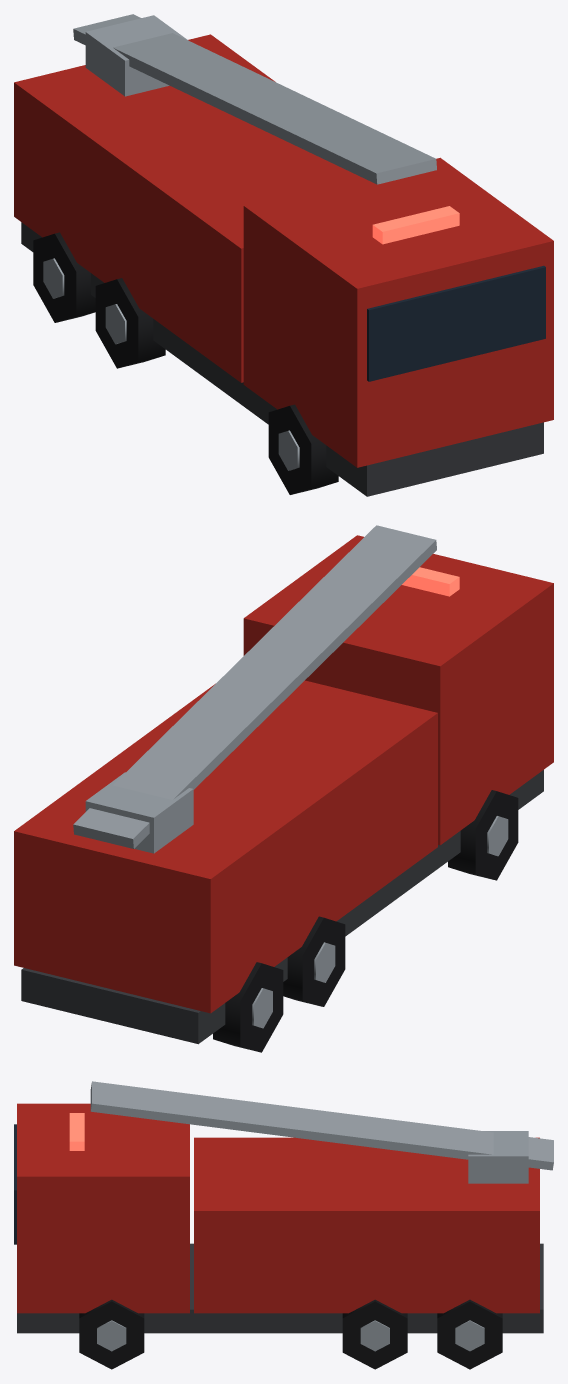
The model's file is veh_ground_fire_truck_a09_lod1.glb.
3 views of the same model, one above another, from view 1: azimuth 30°, elevation 25°; view 2: azimuth 150°, elevation 25°; view 3: azimuth 270°, elevation 25° (orthographic). The views are drawn at different scales.
Parts seen in each view (by area): view 1: body, ladder, wheel_2, wheel_4, wheel_0; view 2: body, ladder, wheel_0, wheel_4, wheel_2; view 3: body, ladder, wheel_1, wheel_3, wheel_5.
Boxes of the visible parts, <box> form: body: <box>14,34,553,496</box>; ladder: <box>73,14,436,184</box>; wheel_2: <box>95,278,165,368</box>; wheel_4: <box>268,404,338,494</box>; wheel_0: <box>33,232,95,322</box>; body: <box>14,535,553,1044</box>; ladder: <box>73,525,436,853</box>; wheel_0: <box>213,962,283,1052</box>; wheel_4: <box>448,790,518,880</box>; wheel_2: <box>283,916,345,1006</box>; body: <box>14,1103,543,1333</box>; ladder: <box>90,1081,553,1183</box>; wheel_1: <box>437,1299,502,1369</box>; wheel_3: <box>342,1299,407,1369</box>; wheel_5: <box>79,1299,144,1369</box>.
Size of the model in its own units: 2.46 by 3.5 by 7.18.
